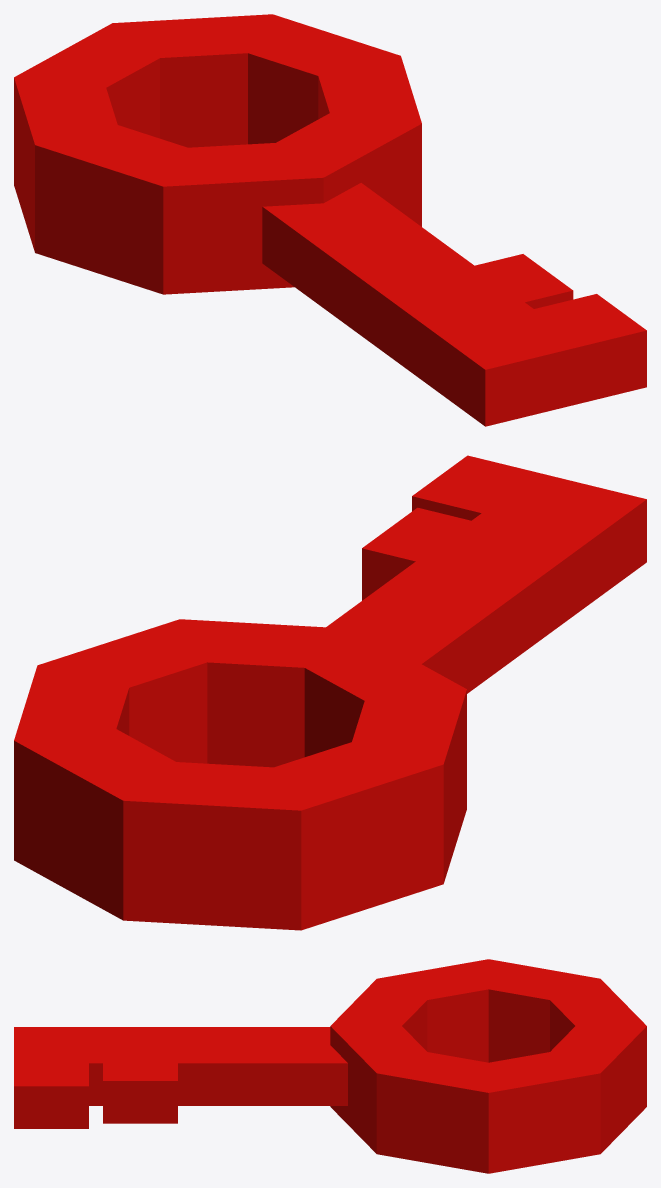
File: Red Key.fbx
3 renders of one model, top to bottom at view 1: azimuth 30°, elevation 25°; view 2: azimuth 150°, elevation 25°; view 3: azimuth 270°, elevation 25°, orthographic. The views are drawn at different scales.
Visible parts, largest first — view 1: Cylinder; view 2: Cylinder; view 3: Cylinder.
Boxes of the visible parts, x1=… form: Cylinder: x1=14, y1=14, x2=646, y2=426; Cylinder: x1=14, y1=455, x2=646, y2=930; Cylinder: x1=14, y1=959, x2=646, y2=1173.
Bounding box in the file's own units: 0.3973 × 0.7944 × 0.112.
